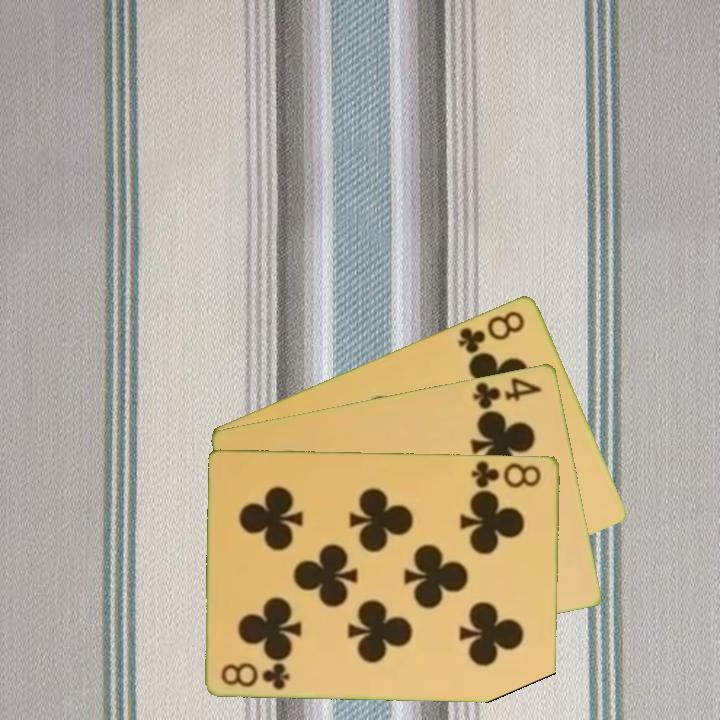4c: (469, 373, 545, 412)
8c: (454, 306, 528, 356), (468, 457, 545, 491), (218, 659, 293, 692)
